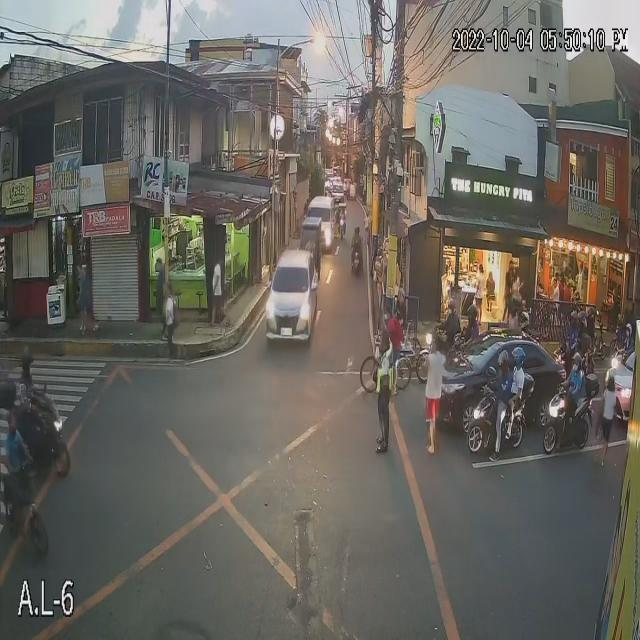helmet: (21, 343, 35, 376), (496, 350, 511, 375), (576, 311, 592, 330), (514, 347, 526, 369), (570, 308, 579, 333), (519, 312, 532, 329), (572, 353, 582, 372), (623, 324, 634, 341), (468, 304, 478, 321), (447, 299, 455, 315), (353, 226, 360, 236)
motorcycle: (0, 360, 70, 478), (467, 378, 528, 452), (541, 382, 596, 452), (421, 326, 459, 377), (602, 345, 629, 386), (349, 245, 363, 274)
rider: (17, 344, 39, 434), (494, 347, 512, 424), (567, 352, 588, 413), (509, 345, 526, 411), (442, 299, 458, 340), (464, 300, 480, 341), (576, 309, 590, 348), (566, 310, 577, 351), (621, 322, 633, 357), (350, 225, 362, 254), (518, 307, 530, 335)
